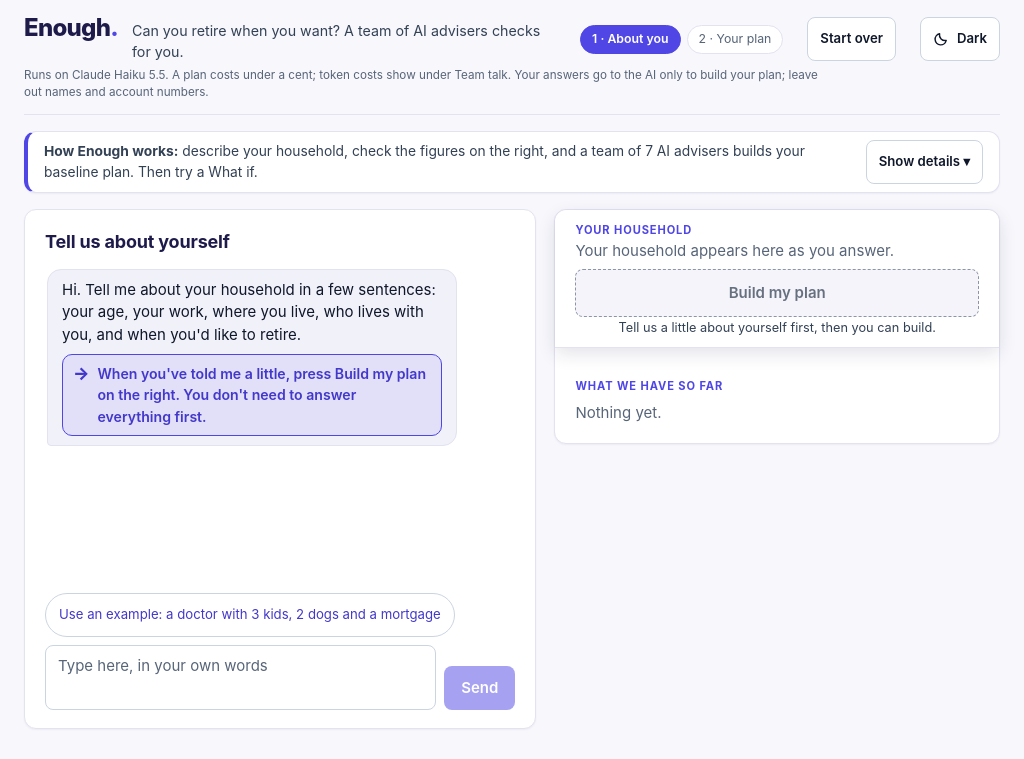
Test: The savings split editor › only one editor is open at a time
Click the button "Use an example: a doctor with 3 kids, 2 dogs and a mortgage" at [250, 615], box [45,593,455,637]
(page scrolled)
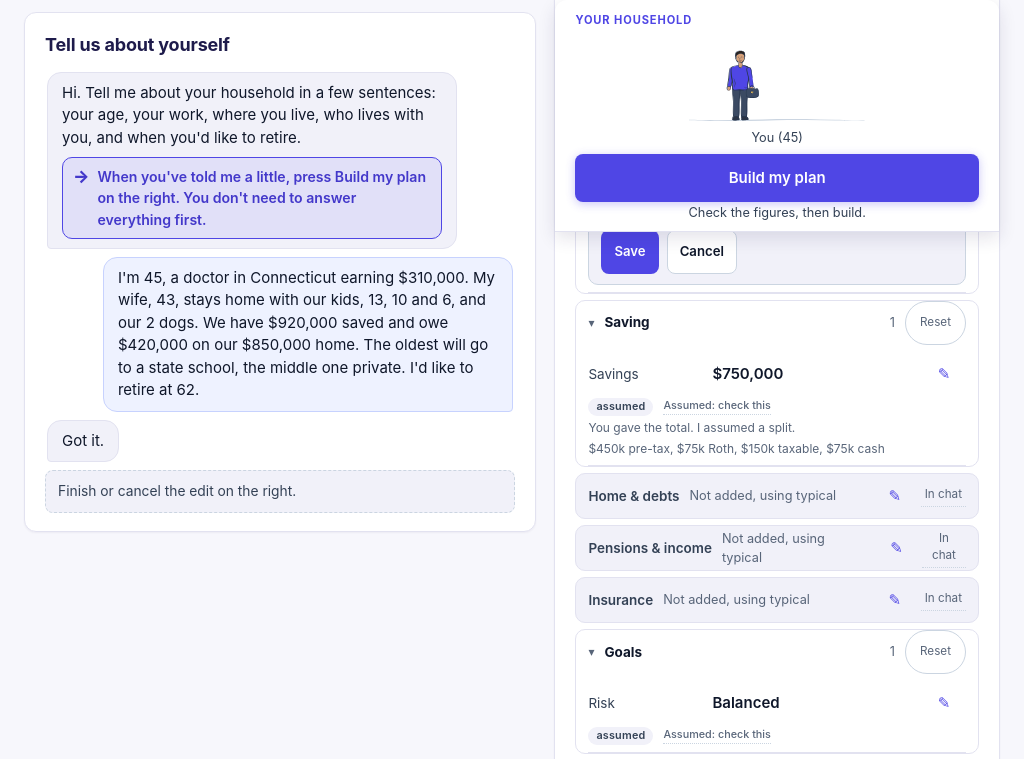
Now the form with class "editor" is shown, box [588,149,966,284]
